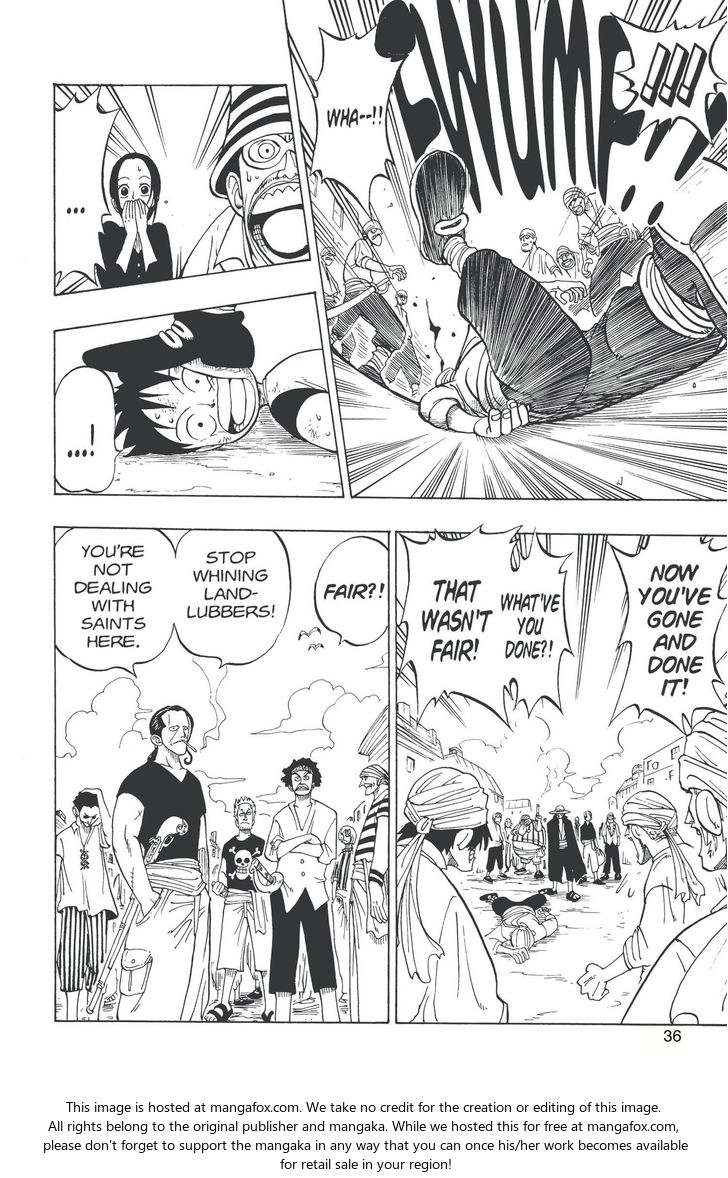bubble: (398, 523, 522, 732), (609, 534, 728, 737), (308, 24, 407, 222), (54, 527, 177, 678), (175, 529, 291, 669), (612, 14, 728, 147), (500, 528, 574, 717), (53, 84, 121, 285), (55, 366, 122, 493), (314, 536, 390, 646)
